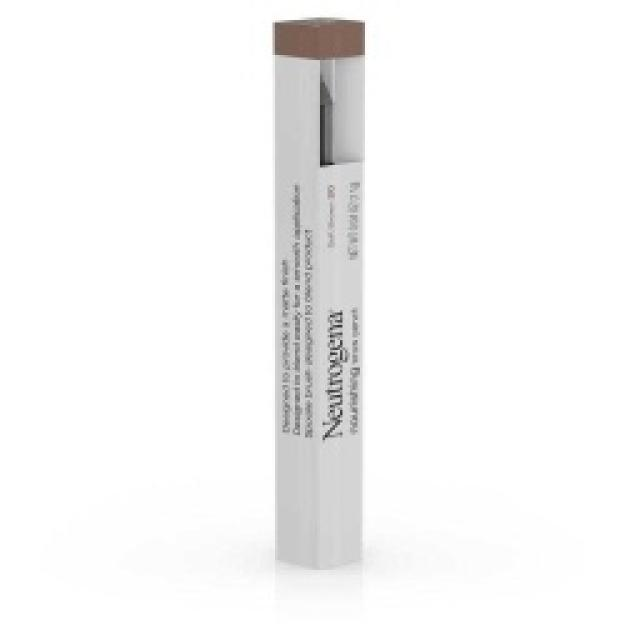pencil: (268, 15, 368, 570)
